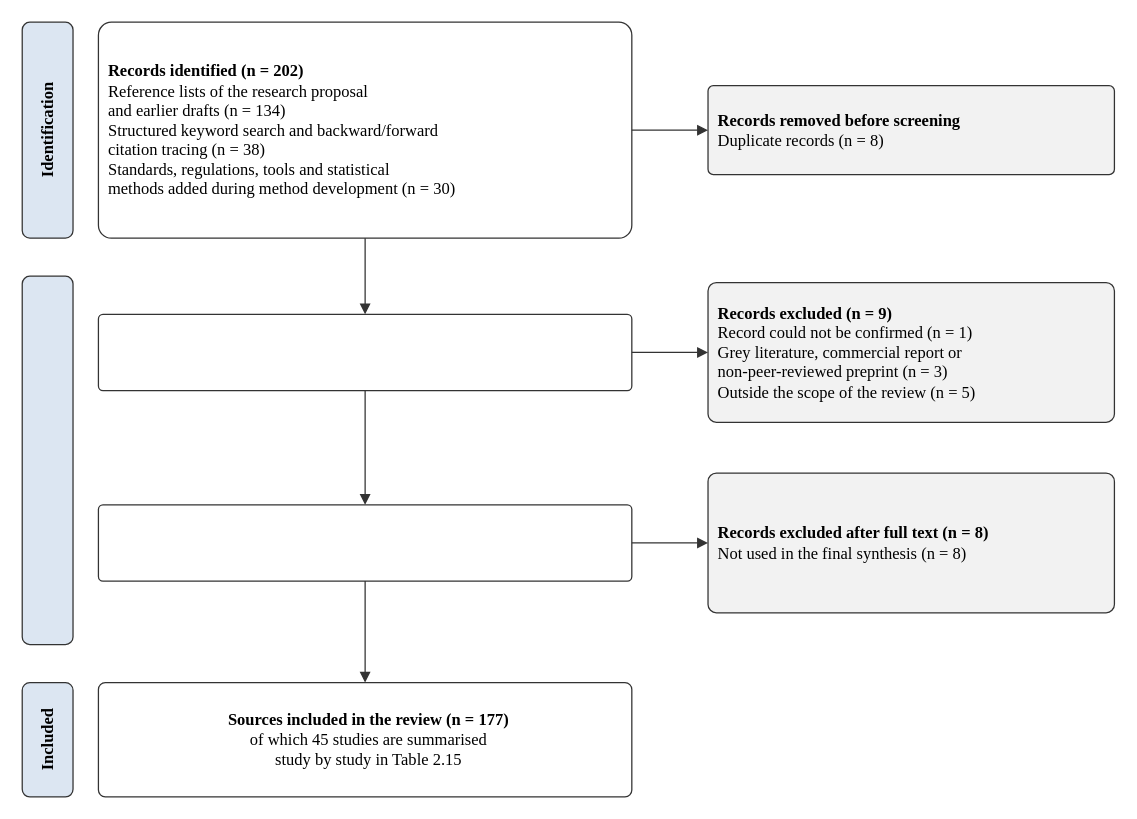
The diagram is 1137 pixels wide and 819 high, and some of its shapes have lost their labels. The centre of each missing label's shape, as x and y in pixels:
Full-text records assessed for eligibility (n = 185): (364,542)
Records screened (n = 194): (364,352)
Screening: (47,460)
